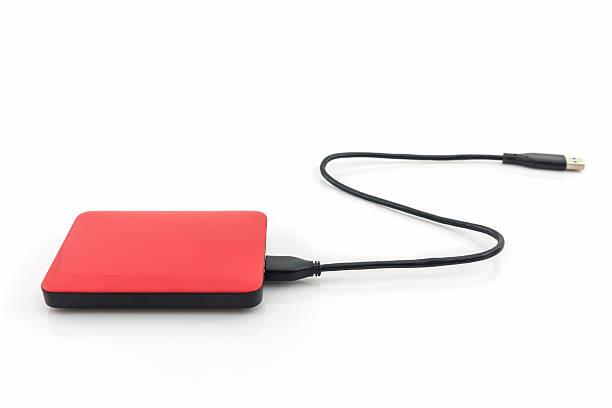HDD: (40, 210, 269, 311)
